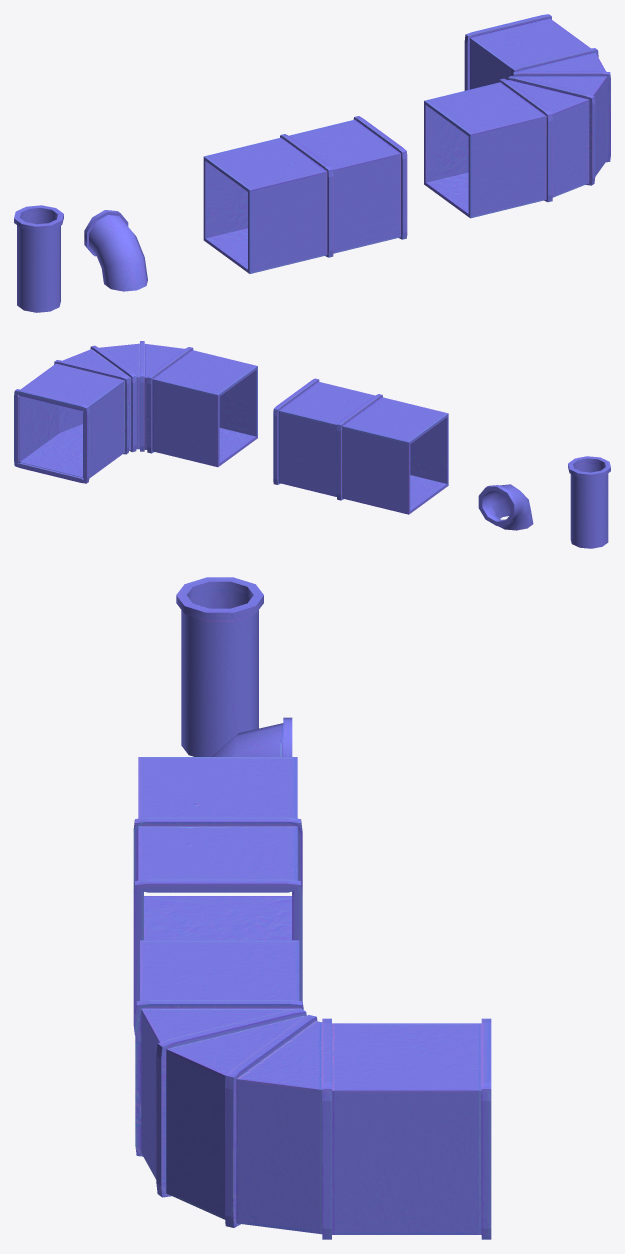
The model's file is PipesnVents.fbx.
3 views of the same model, one above another, from view 1: azimuth 30°, elevation 25°; view 2: azimuth 150°, elevation 25°; view 3: azimuth 270°, elevation 25° (orthographic). The views are drawn at different scales.
Parts seen in each view (by area): view 1: Cube.014, Cube.013, Cylinder.007, Cylinder.006; view 2: Cube.014, Cube.013, Cylinder.007, Cylinder.006; view 3: Cube.014, Cube.013, Cylinder.007, Cylinder.006.
Boxes of the visible parts, x1,y1,x2,y2 form: Cube.014: [424, 14, 610, 218]; Cube.013: [203, 116, 407, 273]; Cylinder.007: [14, 205, 63, 312]; Cylinder.006: [84, 210, 147, 291]; Cube.014: [14, 341, 257, 483]; Cube.013: [273, 378, 448, 514]; Cylinder.007: [568, 456, 610, 548]; Cylinder.006: [478, 484, 533, 530]; Cube.014: [135, 940, 491, 1239]; Cube.013: [133, 757, 302, 1035]; Cylinder.007: [176, 577, 263, 756]; Cylinder.006: [212, 717, 292, 756].
Size of the model in its own units: 3.67 by 0.5187 by 1.08.
